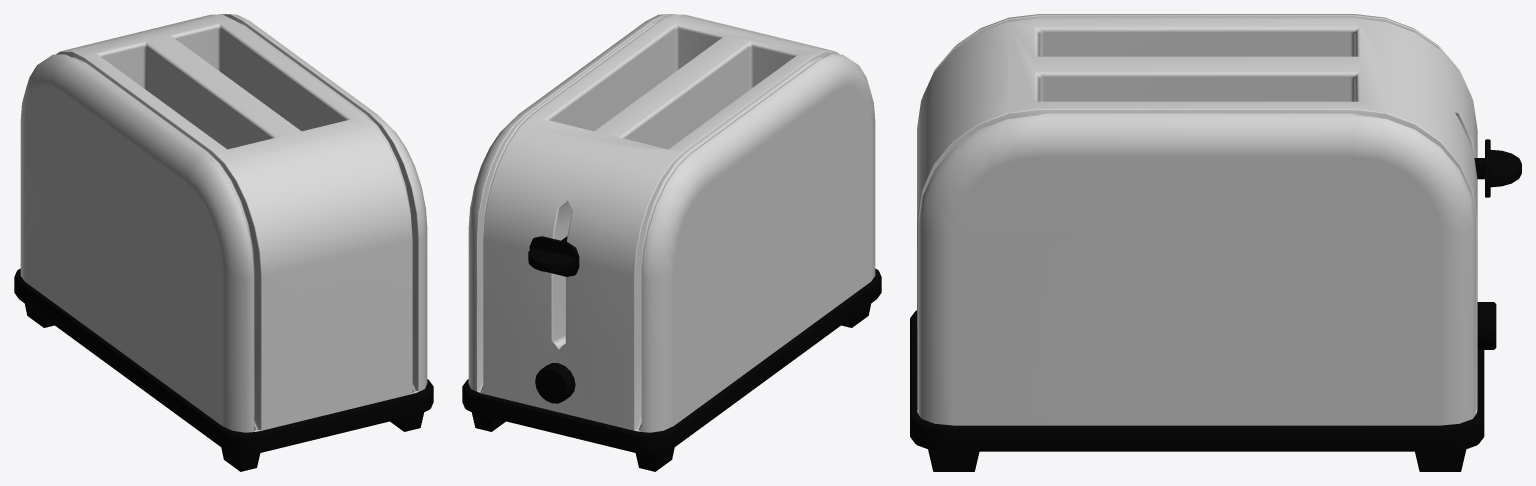
The model's file is Toaster_Apt_01.fbx.
3 views of the same model, side by side, from view 1: azimuth 30°, elevation 25°; view 2: azimuth 150°, elevation 25°; view 3: azimuth 270°, elevation 25° (orthographic). The views are drawn at different scales.
Parts seen in each view (by area): view 1: ToasterTop, Toaster_Apt_01; view 2: ToasterTop, Toaster_Apt_01, Toaster_Lever, toaster_Dial; view 3: ToasterTop, Toaster_Apt_01, Toaster_Lever, toaster_Dial.
Boxes of the visible parts, x1,y1,x2,y2 form: ToasterTop: (20,14,427,432); Toaster_Apt_01: (14,268,433,471); ToasterTop: (468,14,875,432); Toaster_Apt_01: (462,268,881,471); Toaster_Lever: (528,236,579,276); toaster_Dial: (535,363,575,403); ToasterTop: (917,14,1477,425); Toaster_Apt_01: (910,310,1484,471); Toaster_Lever: (1474,139,1521,197); toaster_Dial: (1477,302,1496,349).
Bounding box in the file's own units: 21.46 × 28.2 × 44.18.
2 materials, 1 textured.
